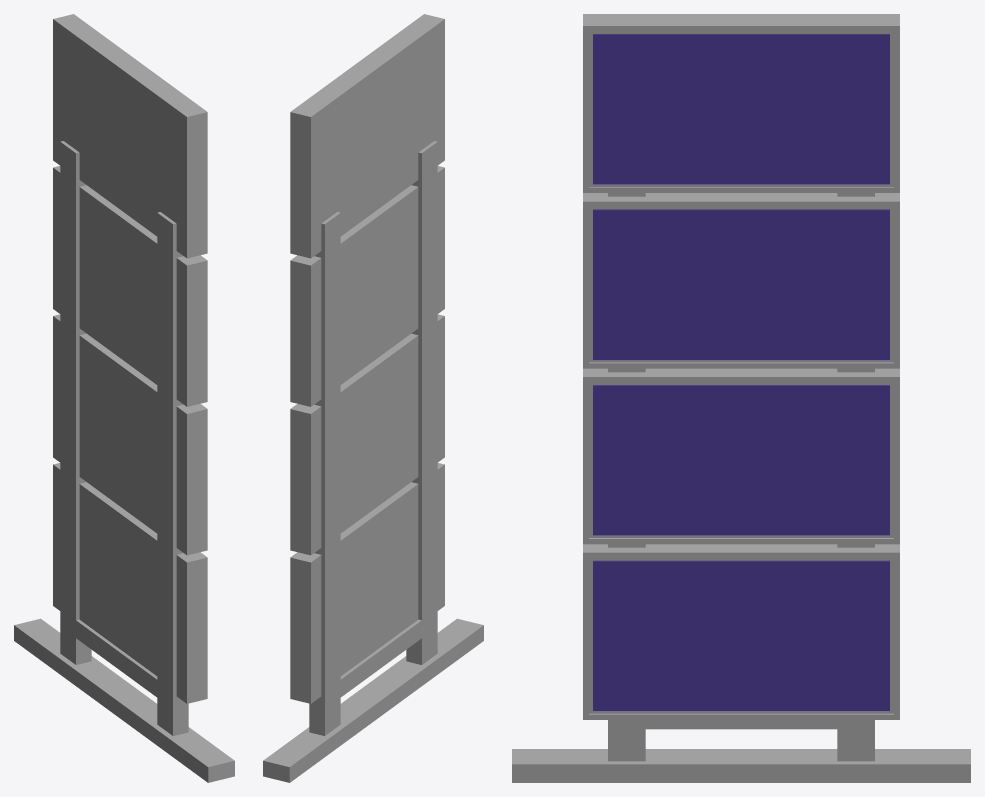
File: SolarPanels.fbx
The picture shows the model from 3 angles, left to right: view 1: azimuth 30°, elevation 25°; view 2: azimuth 150°, elevation 25°; view 3: azimuth 270°, elevation 25°; orthographic projection. The views are drawn at different scales.
Visible parts, largest first — view 1: Cube.001, Cube; view 2: Cube.001, Cube; view 3: Cube.001, Cube.
Boxes of the visible parts, x1=… form: Cube.001: x1=53, y1=14, x2=207, y2=703; Cube: x1=14, y1=141, x2=234, y2=782; Cube.001: x1=290, y1=14, x2=444, y2=703; Cube: x1=263, y1=141, x2=483, y2=782; Cube.001: x1=583, y1=14, x2=899, y2=719; Cube: x1=512, y1=193, x2=970, y2=782.
Size of the model in its own units: 17.64 by 365 by 200.
